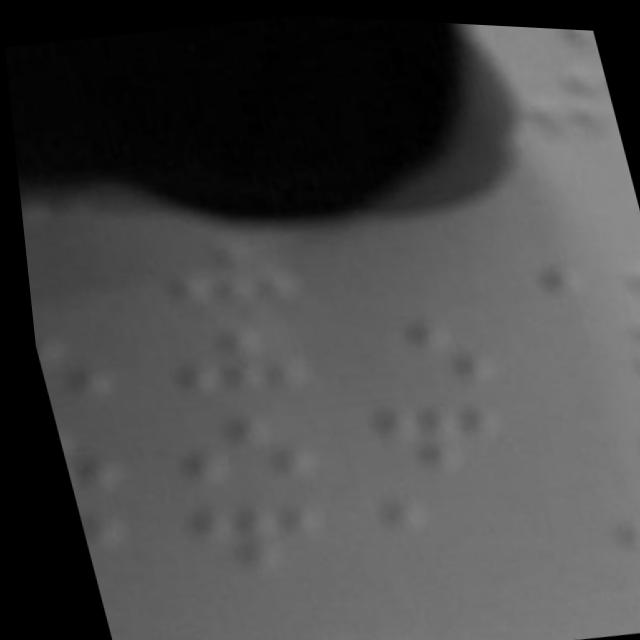braiile: (144, 300, 318, 404), (157, 395, 329, 498), (143, 213, 308, 319), (341, 297, 497, 396), (173, 480, 328, 578), (359, 379, 510, 473), (520, 203, 640, 303), (531, 371, 640, 470), (538, 294, 640, 387), (541, 466, 640, 560)
